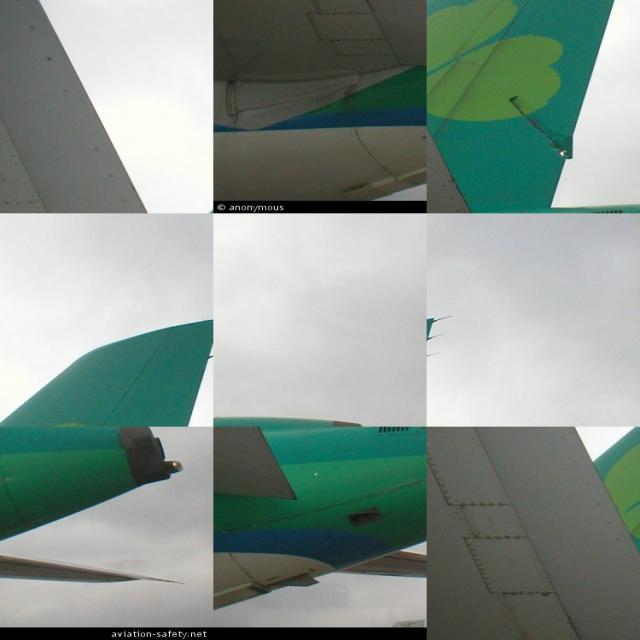crack: (510, 101, 575, 161)
